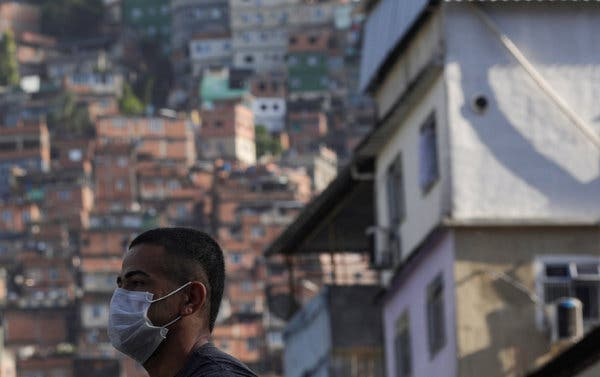with_mask: (99, 232, 222, 356)
